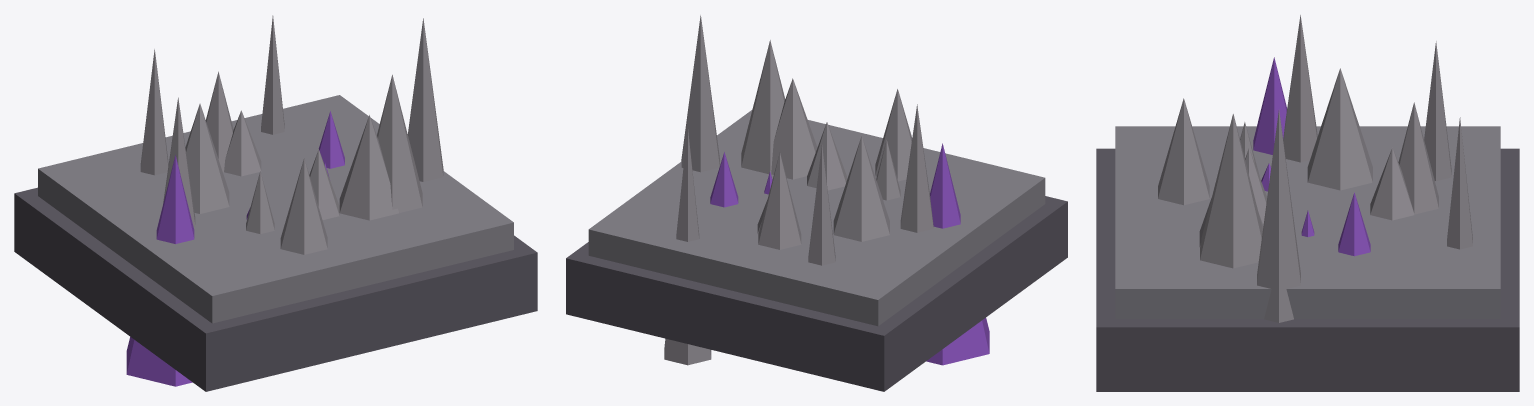
The model's file is corrupted_rocks.glb.
3 renders of one model, left to right at view 1: azimuth 30°, elevation 25°; view 2: azimuth 150°, elevation 25°; view 3: azimuth 270°, elevation 25°, orthographic. The views are drawn at different scales.
Parts seen in each view (by area): view 1: Corrupted Rocks; view 2: Corrupted Rocks; view 3: Corrupted Rocks.
Boxes of the visible parts, x1=… form: Corrupted Rocks: x1=14, y1=15, x2=537, y2=391; Corrupted Rocks: x1=566, y1=15, x2=1067, y2=391; Corrupted Rocks: x1=1096, y1=15, x2=1519, y2=391.
Size of the model in its own units: 1.9 by 1.55 by 1.9.
